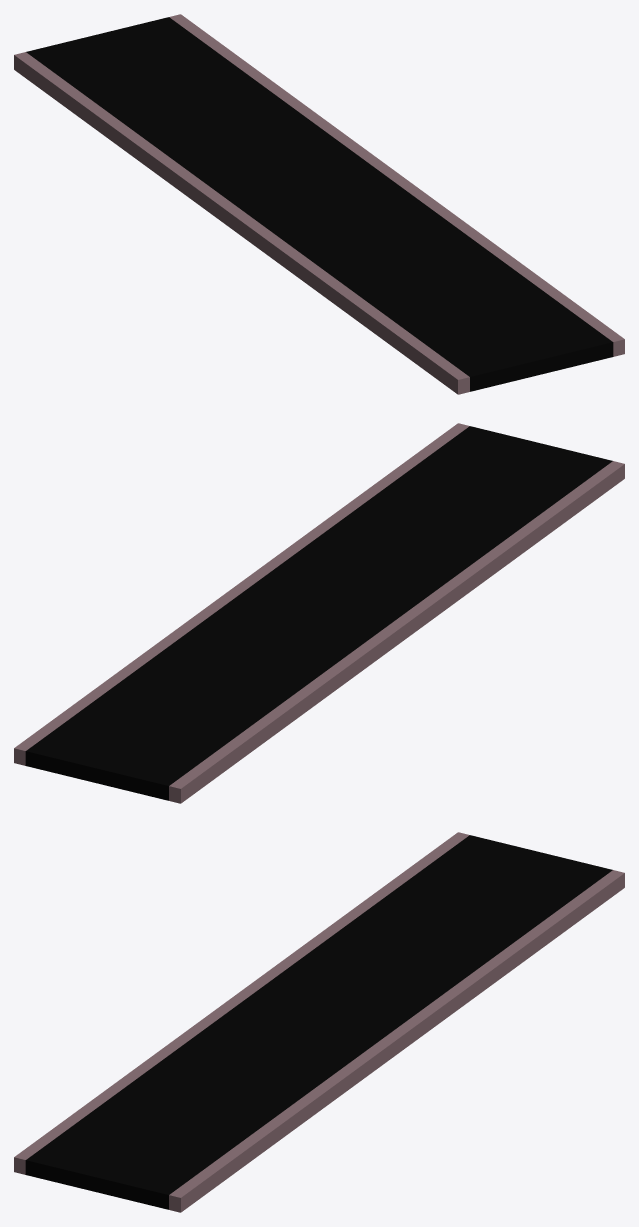
The model's file is PlatformV2.fbx.
The picture shows the model from 3 angles, top to bottom: view 1: azimuth 30°, elevation 25°; view 2: azimuth 150°, elevation 25°; view 3: azimuth 330°, elevation 25°; orthographic projection.
Parts seen in each view (by area): view 1: Plane, Barrier_L, Barrier_R; view 2: Plane, Barrier_L, Barrier_R; view 3: Plane, Barrier_R, Barrier_L.
Part boxes in pixels (bbox=[...]): Plane: bbox=[26, 17, 613, 391]; Barrier_L: bbox=[14, 52, 469, 394]; Barrier_R: bbox=[169, 14, 624, 356]; Plane: bbox=[25, 426, 612, 800]; Barrier_L: bbox=[169, 461, 624, 803]; Barrier_R: bbox=[14, 423, 469, 765]; Plane: bbox=[25, 835, 612, 1209]; Barrier_R: bbox=[169, 870, 624, 1212]; Barrier_L: bbox=[14, 832, 469, 1174].
Size of the model in its own units: 706 by 60 by 3256.
